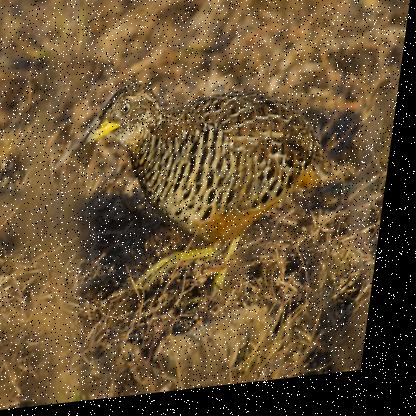Burung: (69, 67, 357, 321)
